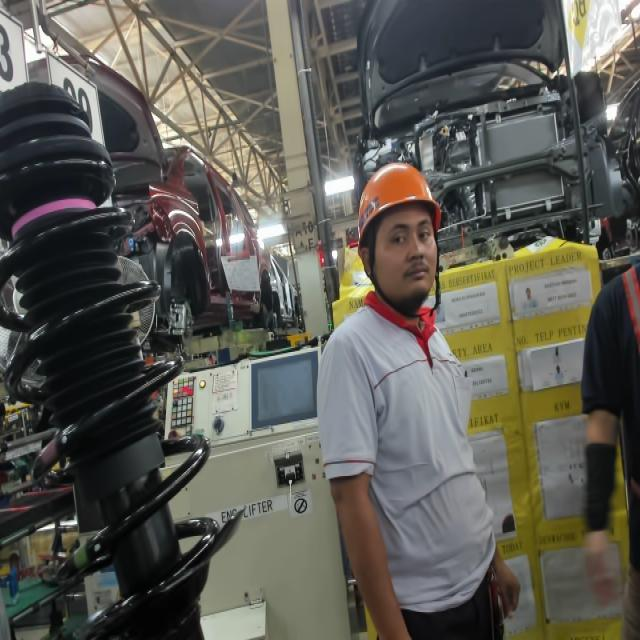Bumper-PK: (0, 180, 100, 242)
